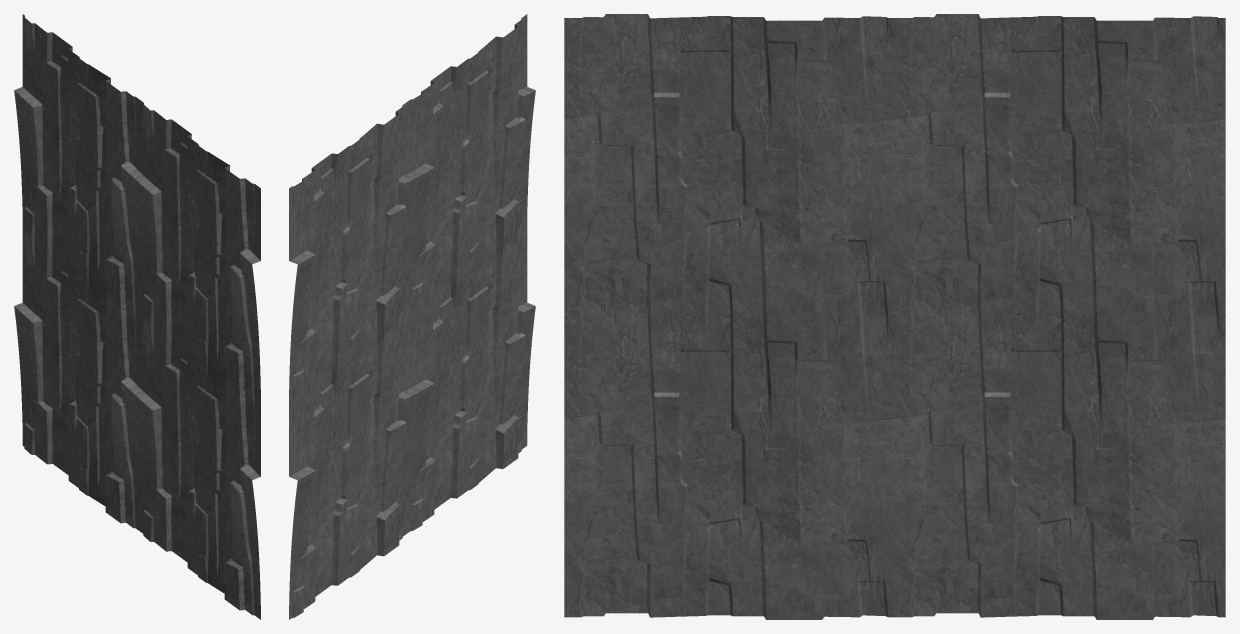
Rendered from CaveWallL.fbx.
3 views of the same model, side by side, from view 1: azimuth 30°, elevation 25°; view 2: azimuth 150°, elevation 25°; view 3: azimuth 270°, elevation 25° (orthographic). The views are drawn at different scales.
Visible parts, largest first — view 1: SM_ENV_NATURE_Cave_Wall_L_02.mo; view 2: SM_ENV_NATURE_Cave_Wall_L_02.mo; view 3: SM_ENV_NATURE_Cave_Wall_L_02.mo.
Boxes of the visible parts, x1,y1,x2,y2 form: SM_ENV_NATURE_Cave_Wall_L_02.mo: [14, 14, 260, 619]; SM_ENV_NATURE_Cave_Wall_L_02.mo: [289, 14, 535, 619]; SM_ENV_NATURE_Cave_Wall_L_02.mo: [564, 14, 1225, 619].
Bounding box in the file's own units: 58.26 × 1640 × 1640.
1 material, 1 textured.
